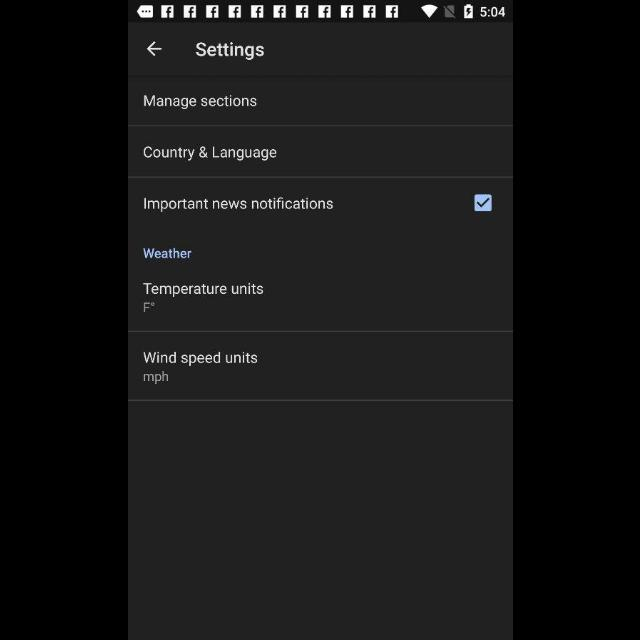checkbox: (474, 194, 491, 212)
icon: (146, 42, 162, 58)
text: (144, 198, 332, 212), (143, 146, 277, 162), (142, 282, 264, 298), (143, 351, 257, 367), (144, 96, 256, 110), (196, 42, 264, 62), (142, 248, 192, 260), (144, 371, 168, 385), (143, 302, 155, 314)
uppertaskbar: (128, 1, 512, 23)
